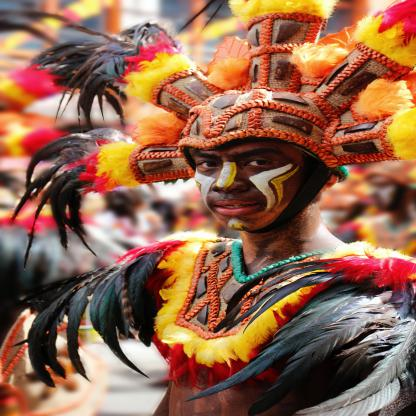Eye: (241, 156, 279, 168), (195, 159, 221, 169)
Mouth: (210, 197, 262, 217)
Nose: (212, 162, 249, 193)
